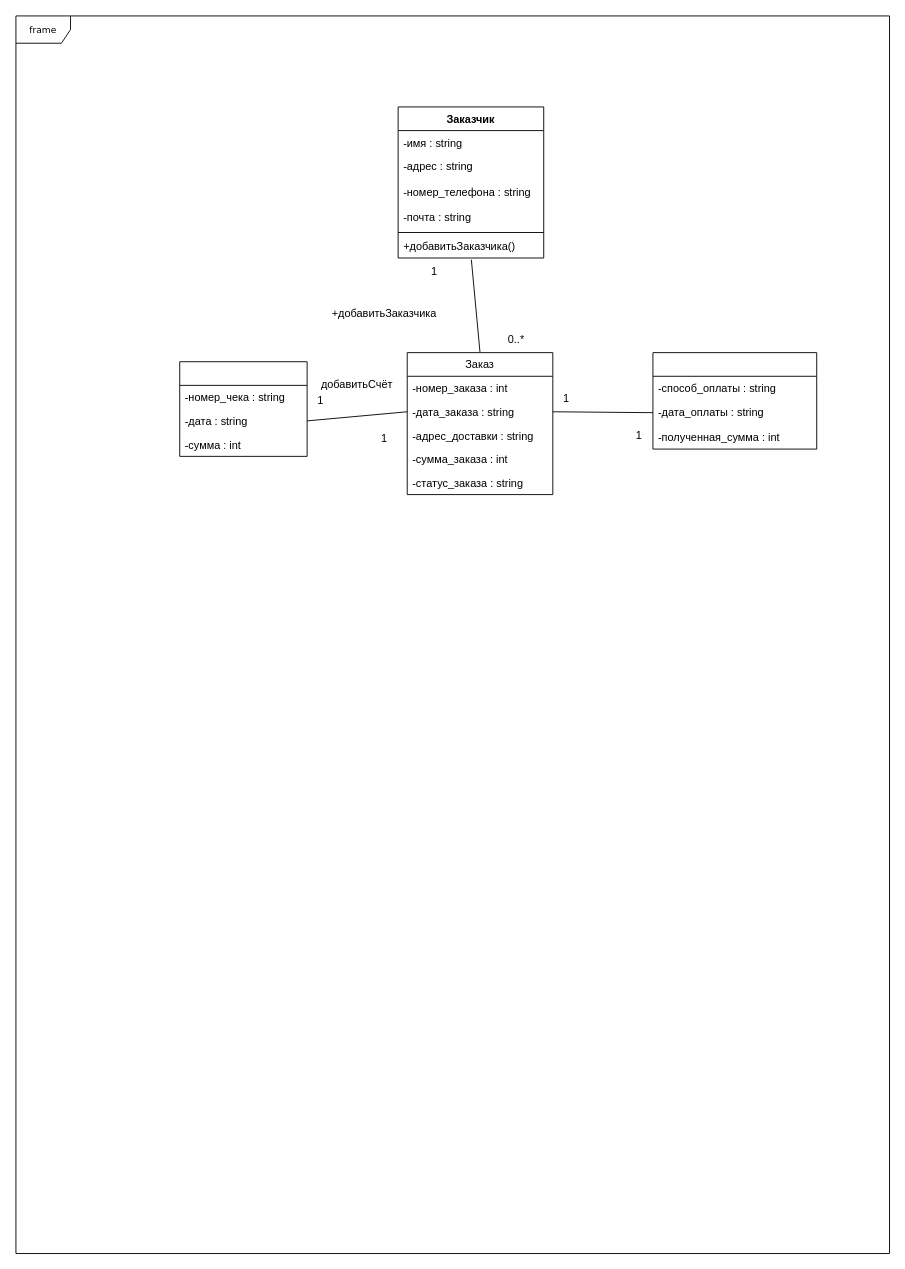
The diagram is 905 pixels wide and 1269 high, and some of its shapes have lost their labels. The box of each missing label's shape, as (x1, y1, x2, y2) in pixels:
Оплата: (652, 352, 817, 449)
Счёт: (179, 361, 307, 456)
